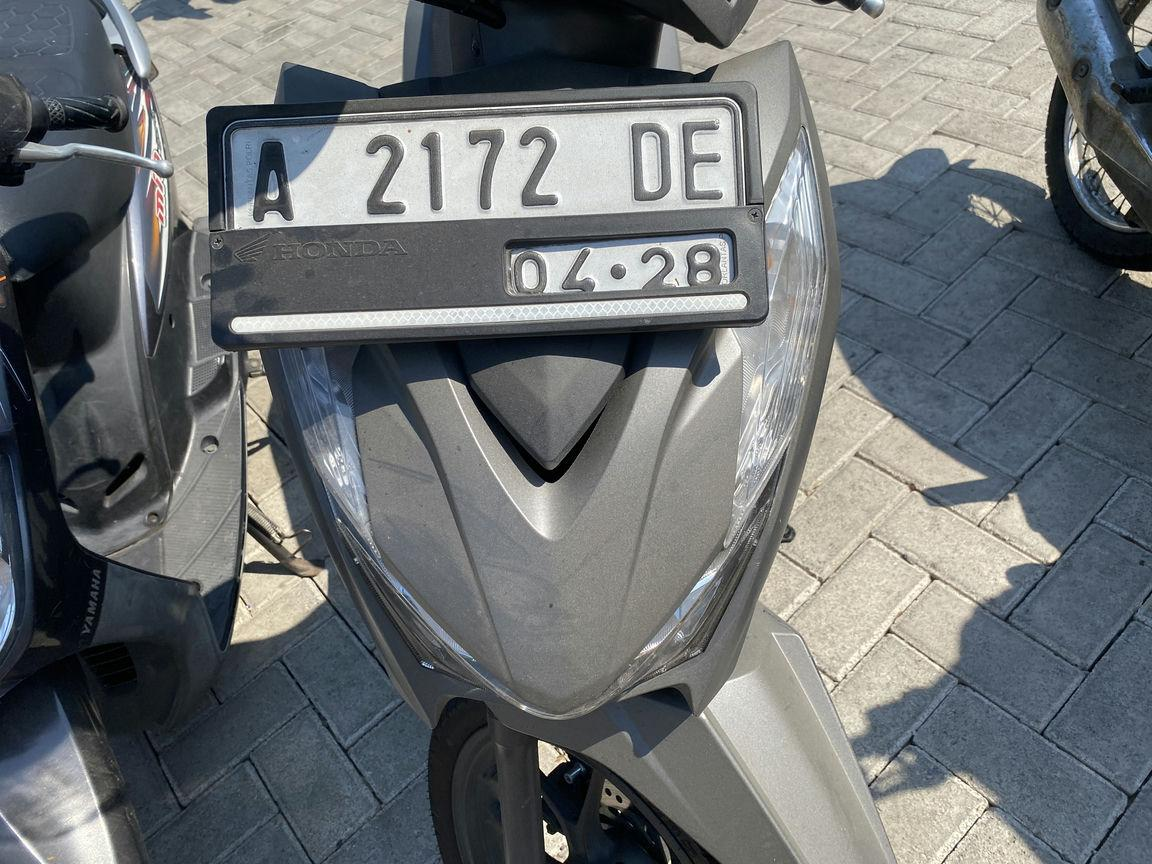plat: (209, 83, 774, 346)
